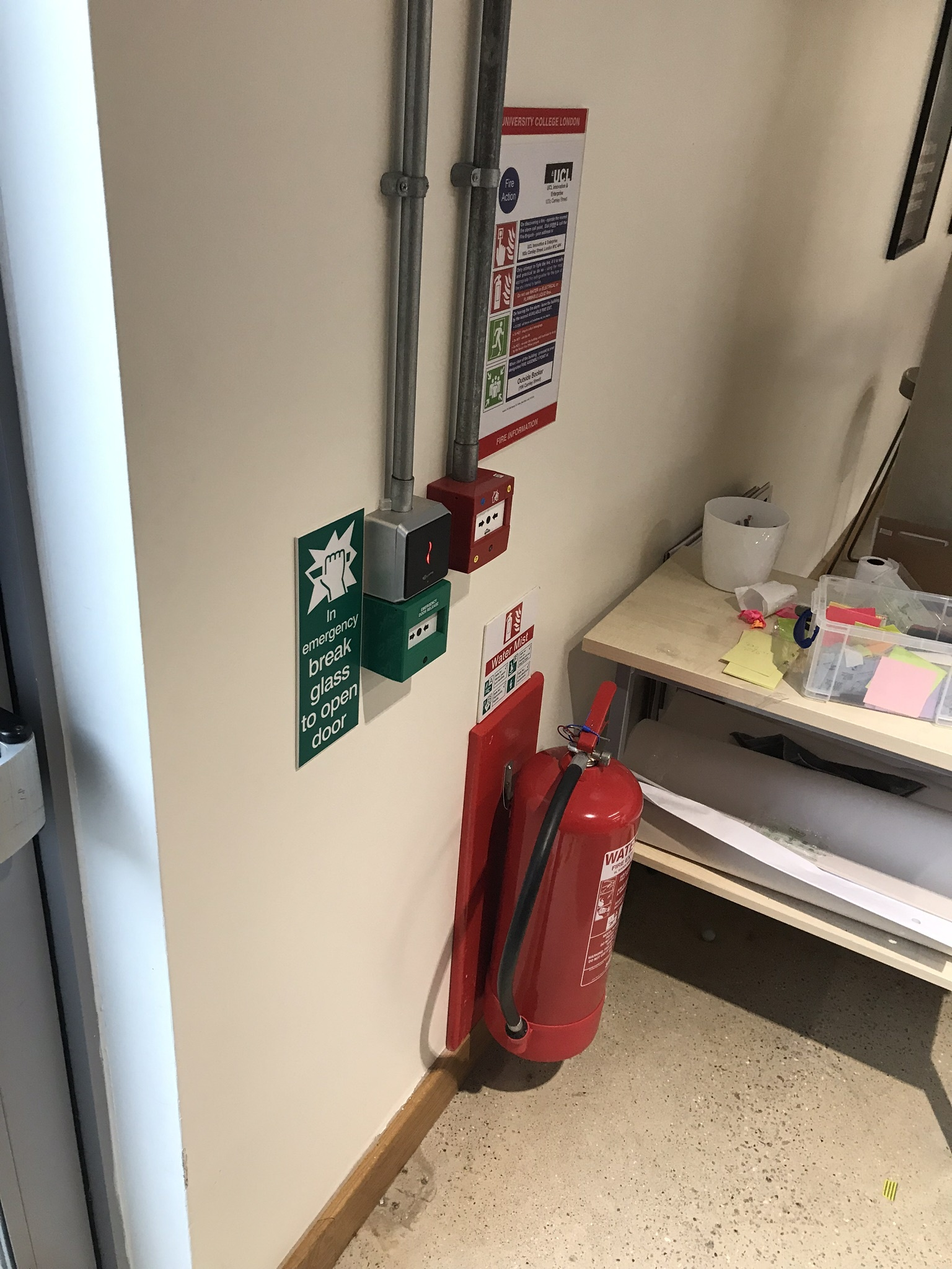fire_extinguisher: (482, 680, 645, 1063)
